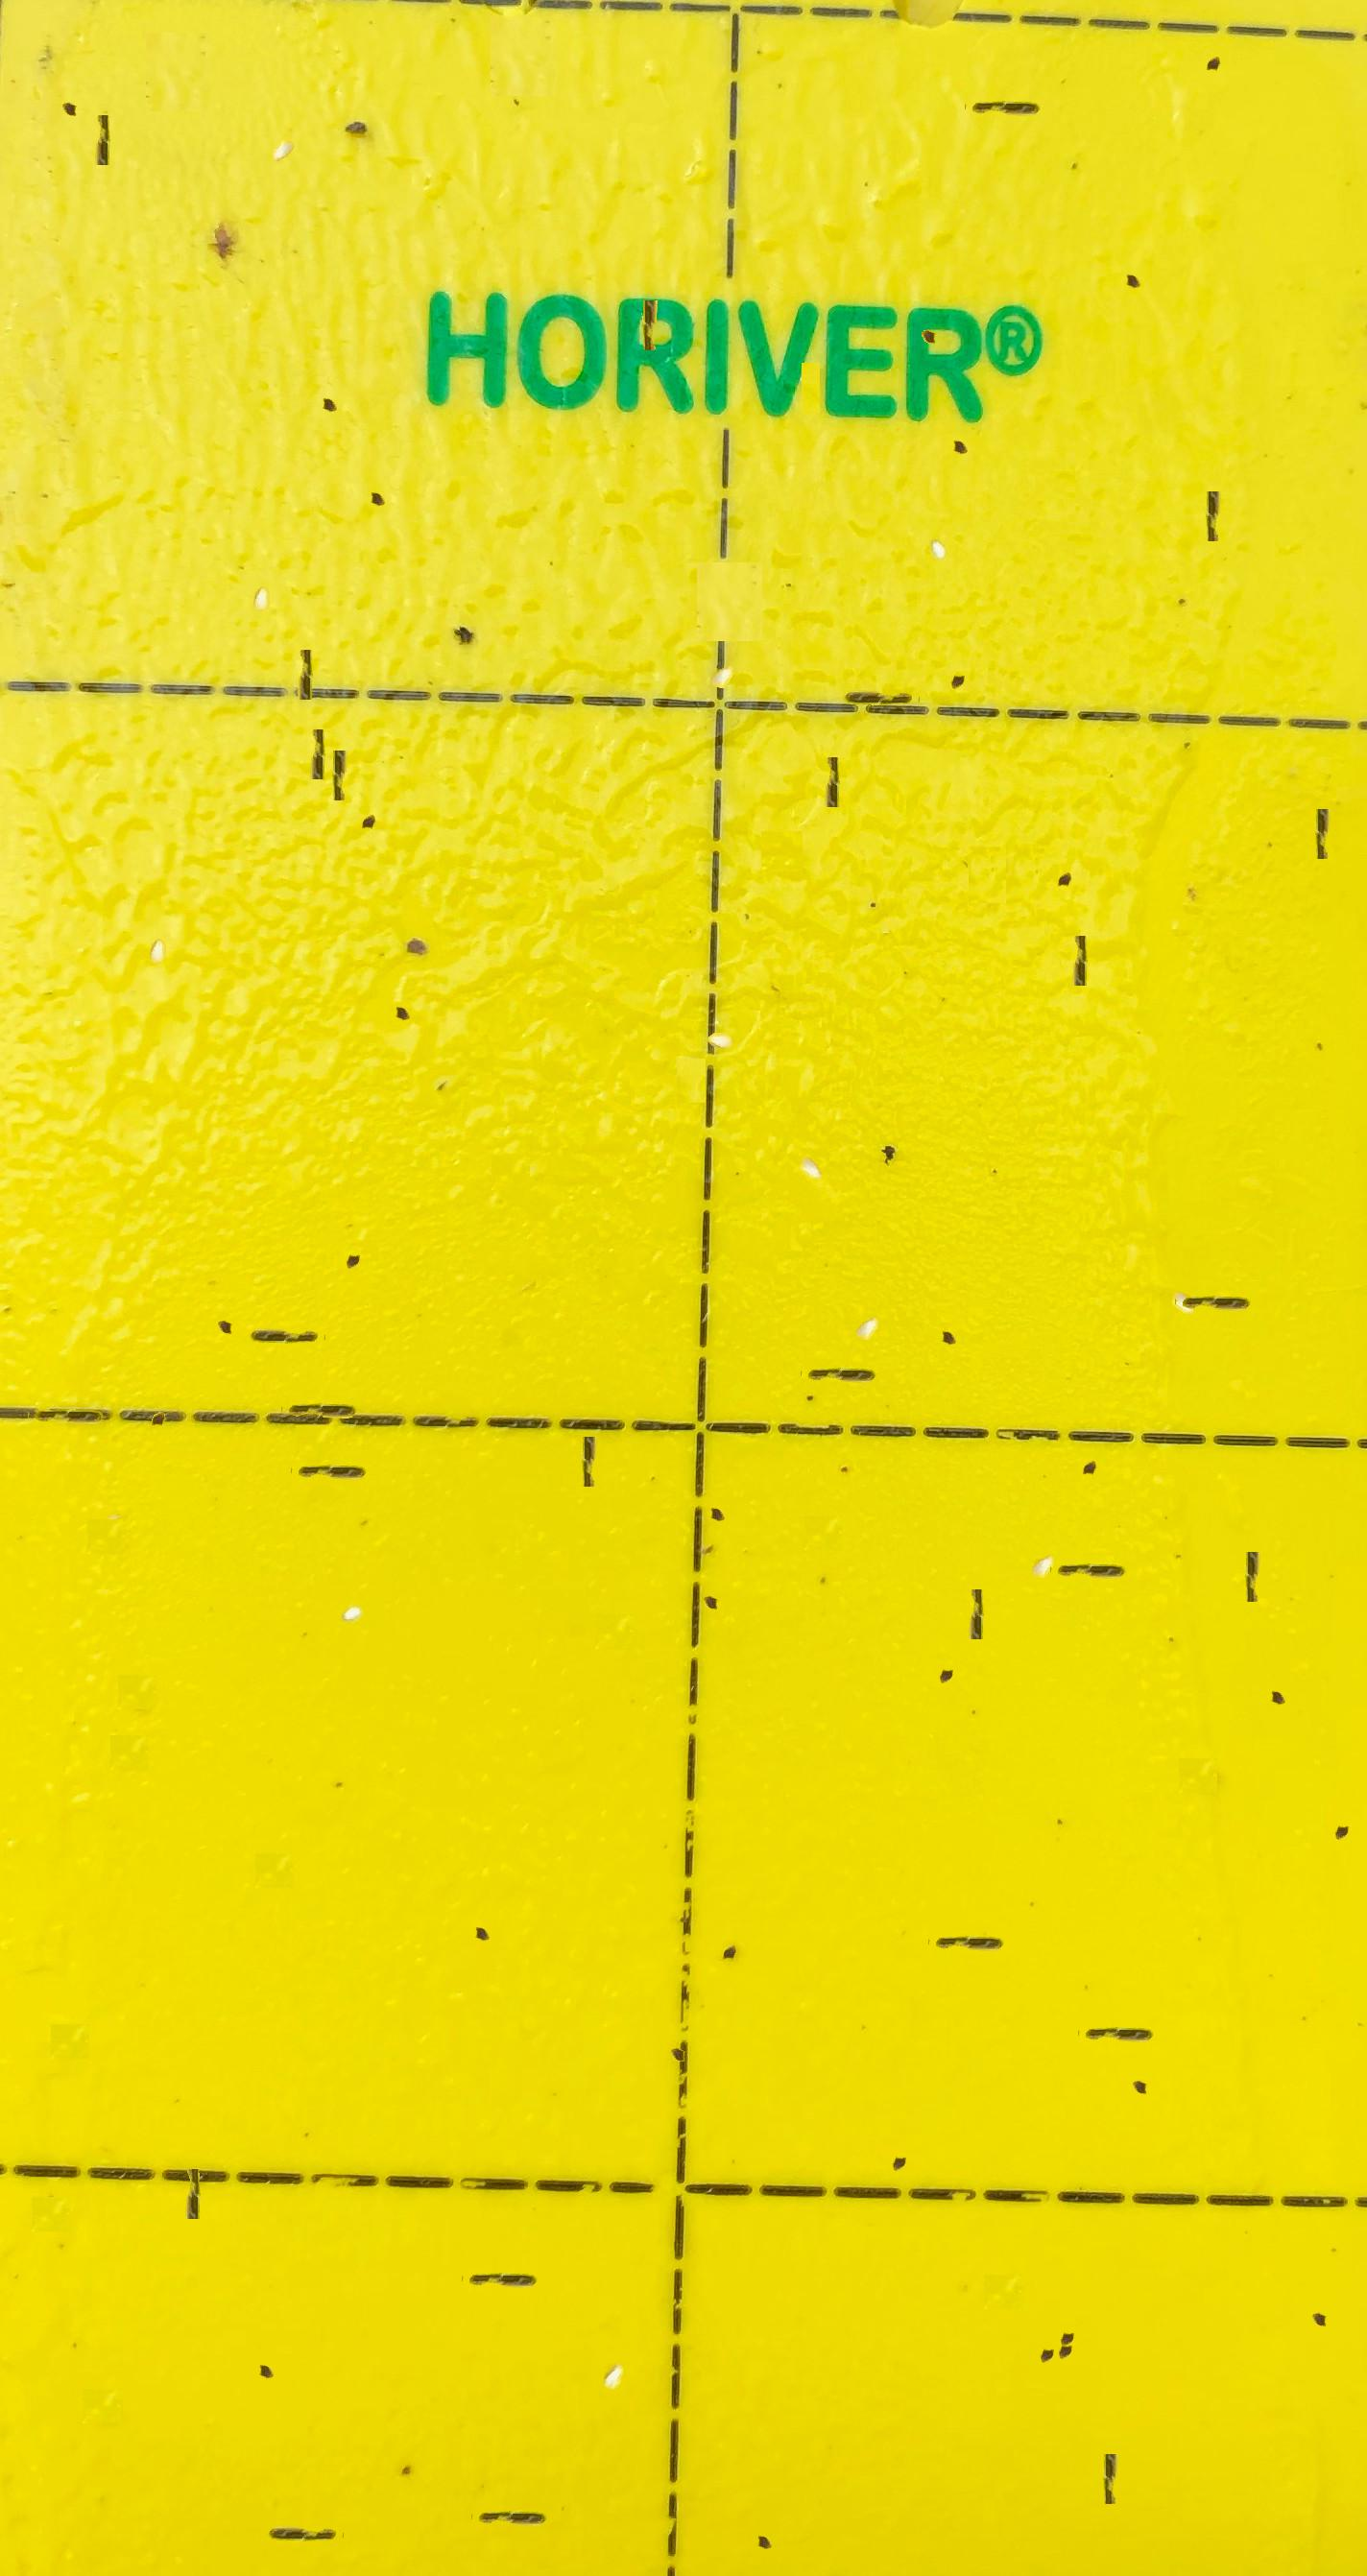white_fly: (332, 1542, 375, 1590), (917, 479, 960, 526), (845, 1264, 888, 1308), (789, 1102, 832, 1147), (1021, 1503, 1064, 1547), (595, 2312, 636, 2358), (262, 85, 305, 128), (1161, 1237, 1203, 1279), (701, 613, 743, 656), (135, 896, 177, 934), (239, 543, 280, 581), (701, 986, 741, 1024)
